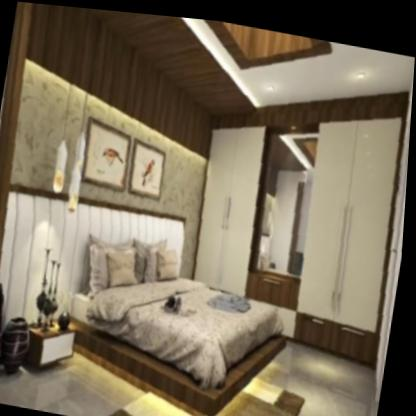Bed: (67, 220, 302, 416)
Closet: (285, 94, 412, 362)
Frame: (77, 107, 138, 191)
